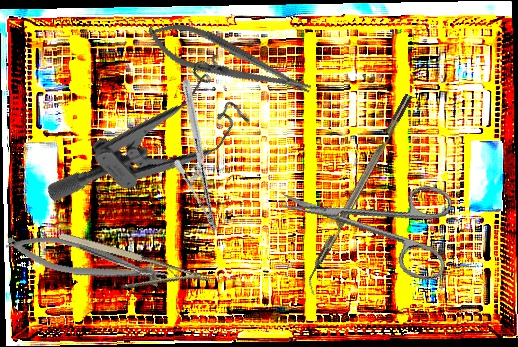Chopper: (298, 93, 423, 296)
Iris Scissors: (269, 152, 463, 284)
Needle Holder: (124, 77, 276, 235), (141, 11, 317, 111), (50, 227, 212, 313), (3, 223, 172, 300)
Speculum: (42, 37, 268, 259)
